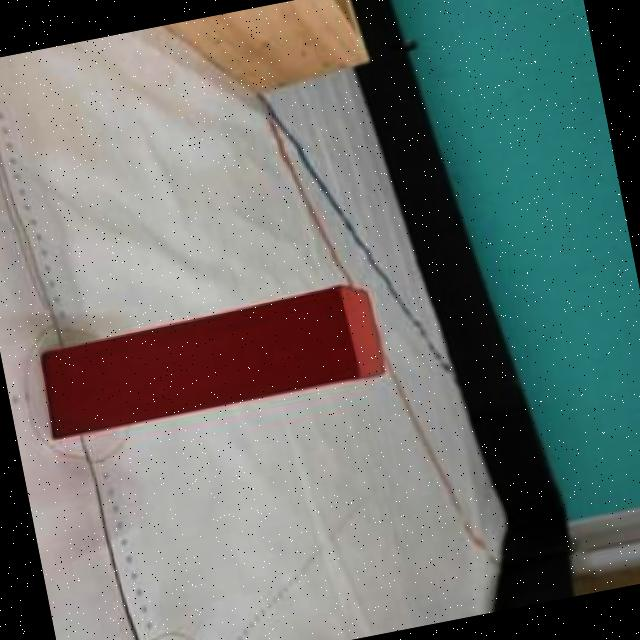redbox: (35, 276, 388, 442)
